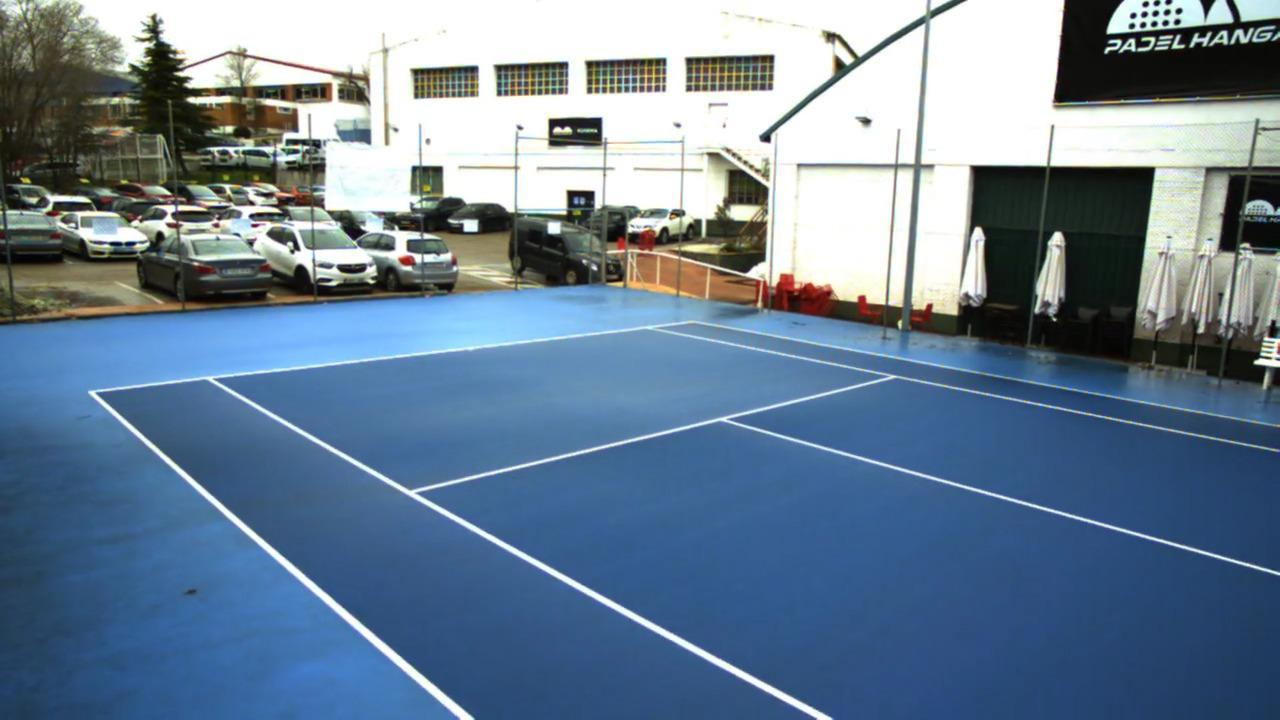cancha_tenis: (210, 326, 1280, 720)
point_f1: (194, 363, 229, 390)
point_f2: (639, 313, 664, 341)
point_fc1: (464, 341, 481, 358)
point_i1: (396, 480, 436, 506)
point_i2: (876, 368, 905, 389)
point_ic1: (706, 407, 742, 432)
